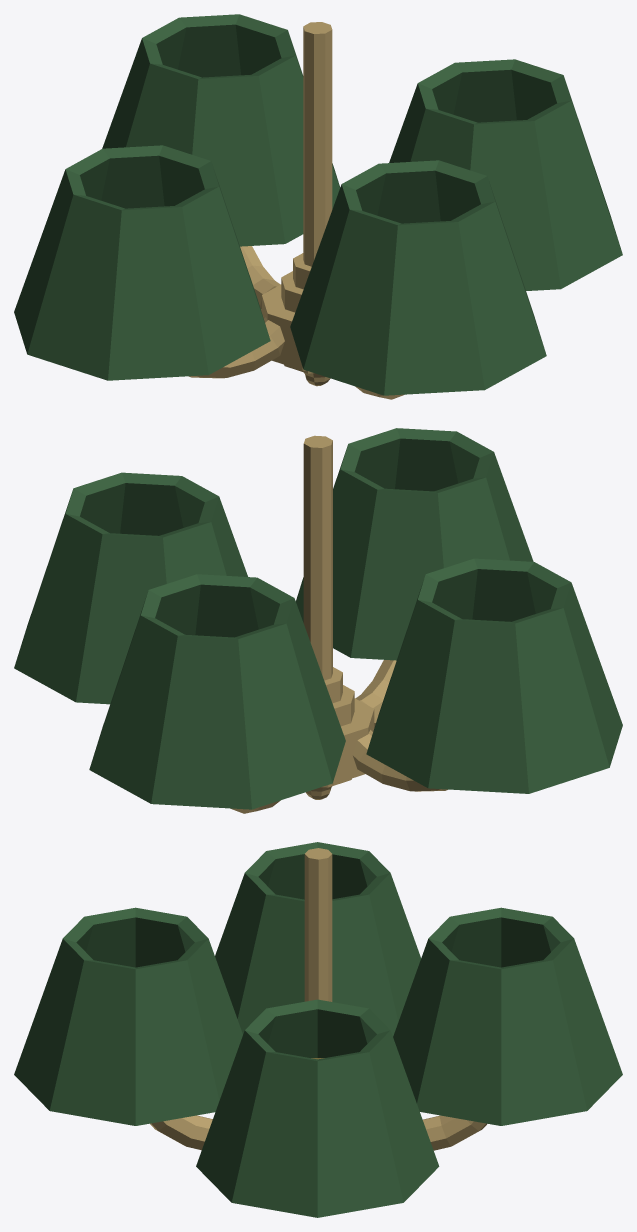
Rendered from candelabro.fbx.
The picture shows the model from 3 angles, top to bottom: view 1: azimuth 30°, elevation 25°; view 2: azimuth 150°, elevation 25°; view 3: azimuth 270°, elevation 25°; orthographic projection. The views are drawn at different scales.
Visible parts, largest first — view 1: Cylinder.002, Cylinder, Cylinder.004, Cylinder.001, Cylinder.003; view 2: Cylinder.002, Cylinder, Cylinder.004, Cylinder.001, Cylinder.003; view 3: Cylinder.002, Cylinder, Cylinder.004, Cylinder.003.
Boxes of the visible parts, <box> form: Cylinder.002: <box>102,14,546,395</box>; Cylinder: <box>14,59,622,380</box>; Cylinder.004: <box>262,22,332,386</box>; Cylinder.001: <box>189,317,284,378</box>; Cylinder.003: <box>240,246,404,399</box>; Cylinder.002: <box>89,428,533,809</box>; Cylinder: <box>14,472,622,793</box>; Cylinder.004: <box>303,435,374,799</box>; Cylinder.001: <box>352,730,447,791</box>; Cylinder.003: <box>230,660,396,813</box>; Cylinder.002: <box>14,907,622,1125</box>; Cylinder: <box>196,842,439,1217</box>; Cylinder.004: <box>304,848,332,1001</box>; Cylinder.003: <box>150,1115,487,1150</box>.
Size of the model in its own units: 139 by 81.62 by 138.
